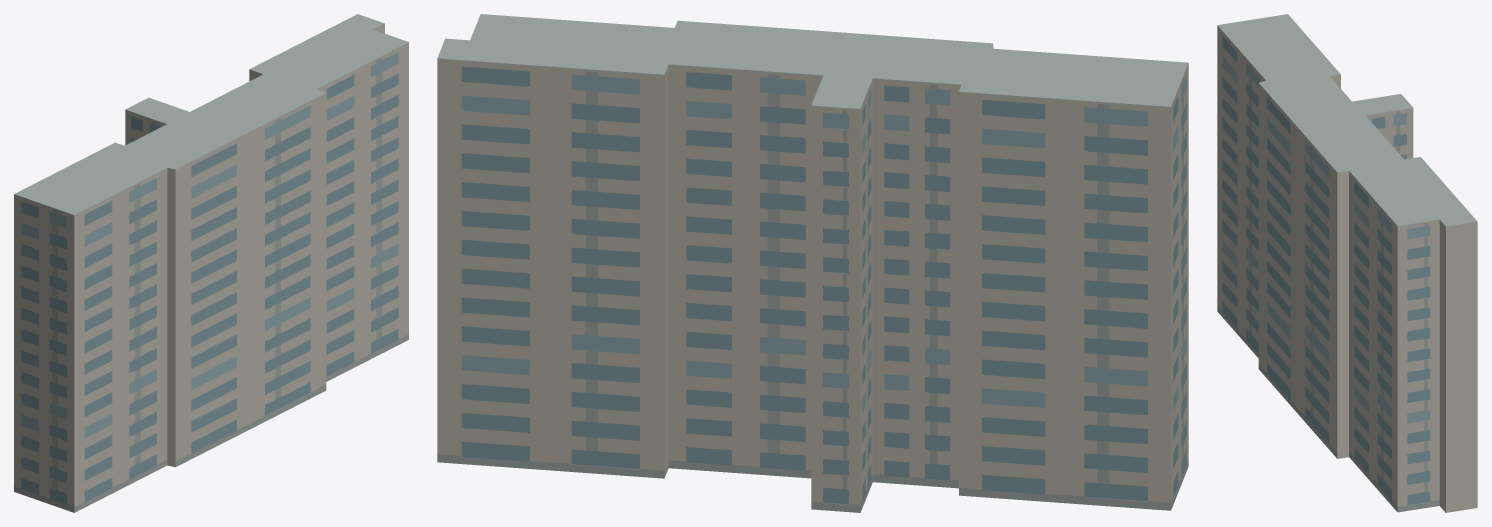
Rendered from residential-9ebade69-8997-4dce-b565-533b5fbb70ba.glb.
The picture shows the model from 3 angles, left to right: view 1: azimuth 30°, elevation 25°; view 2: azimuth 150°, elevation 25°; view 3: azimuth 270°, elevation 25°; orthographic projection. The views are drawn at different scales.
Visible parts, largest first — view 1: residential-9ebade69-8997-4dce-b565-533b5fbb70ba.tmp; view 2: residential-9ebade69-8997-4dce-b565-533b5fbb70ba.tmp; view 3: residential-9ebade69-8997-4dce-b565-533b5fbb70ba.tmp.
Part boxes in pixels (x1,y1,x2,y2): residential-9ebade69-8997-4dce-b565-533b5fbb70ba.tmp: (14, 14, 408, 512); residential-9ebade69-8997-4dce-b565-533b5fbb70ba.tmp: (437, 14, 1188, 512); residential-9ebade69-8997-4dce-b565-533b5fbb70ba.tmp: (1217, 14, 1477, 512).
Bounding box in the file's own units: 67.99 × 42.7 × 35.19.
